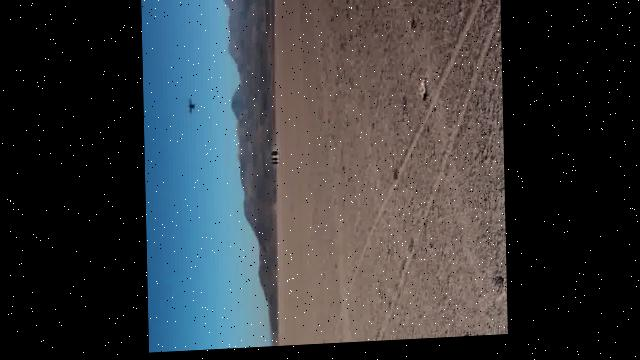drone: (184, 100, 194, 119)
